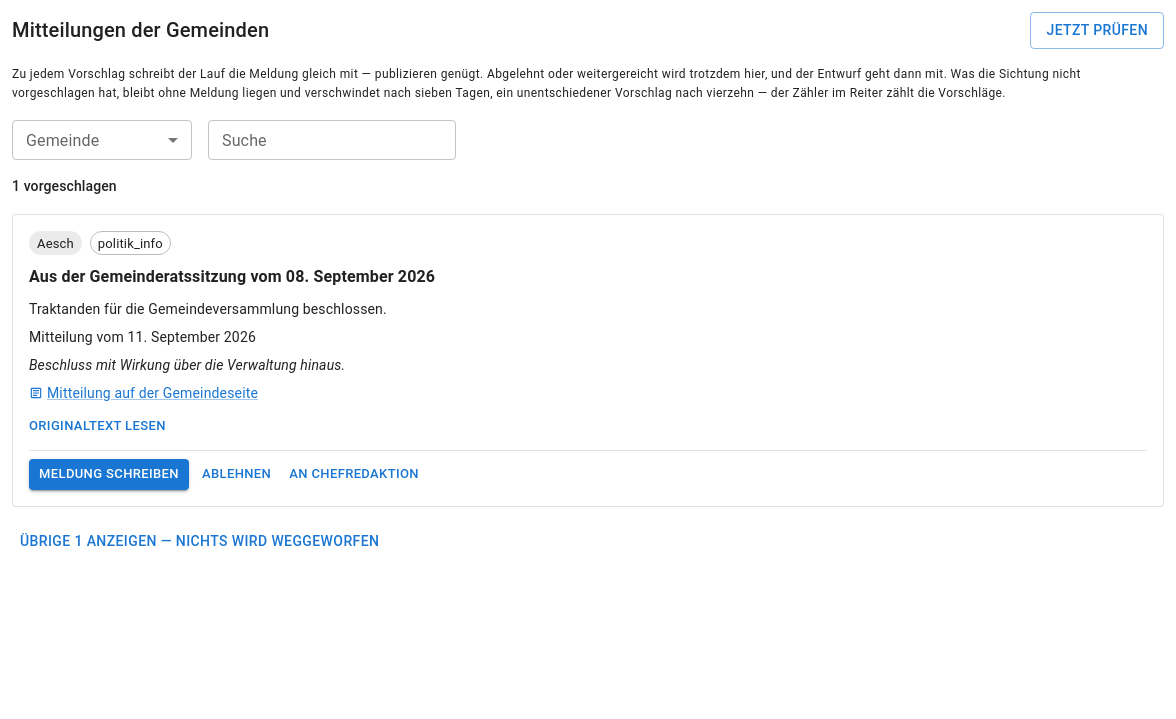
Test: Gemeindeseiten › faltet die Uebrigen weg, ohne sie zu verstecken
expect the heading "1 vorgeschlagen" is shown: met, box [12,178,117,194]
expect the text "Öffnungszeiten über die Feiertage" is not shown: met
What coordinates should you click on to do the following:
click the button "Übrige 1 anzeigen — nichts wird weggeworfen"
I would click on:
 (200, 541)
Its box is [12,523,387,559].
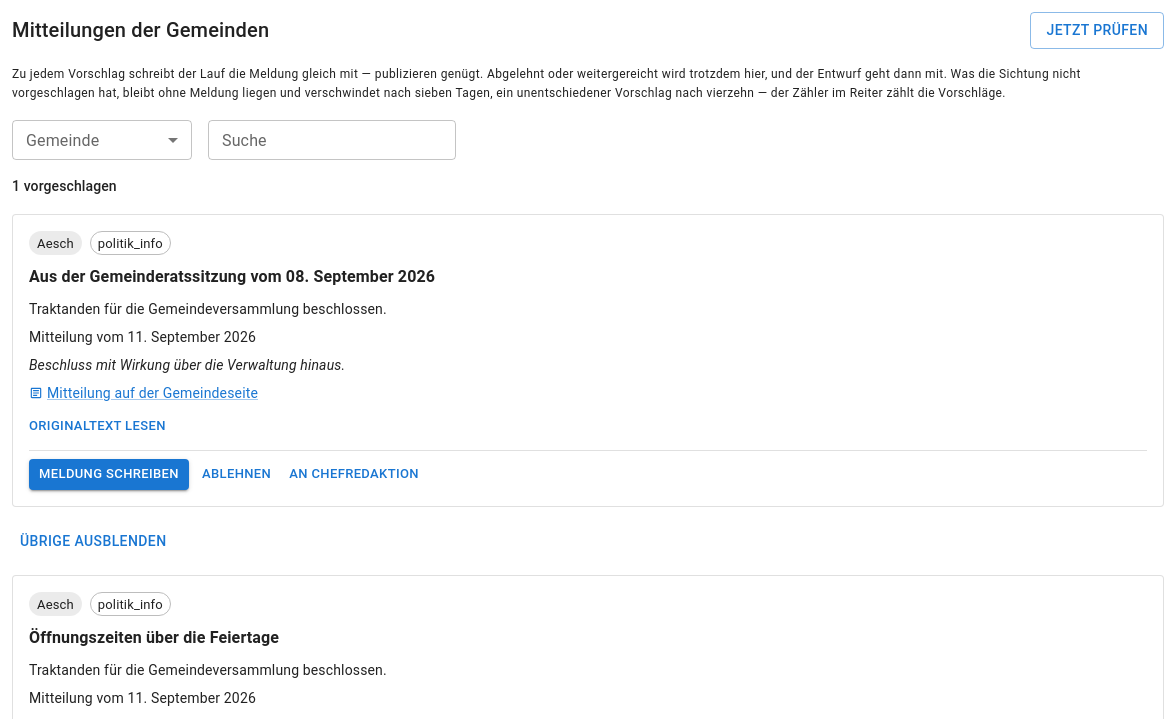
expect the heading "Öffnungszeiten über die Feiertage" is shown: met, box [29,628,279,647]
